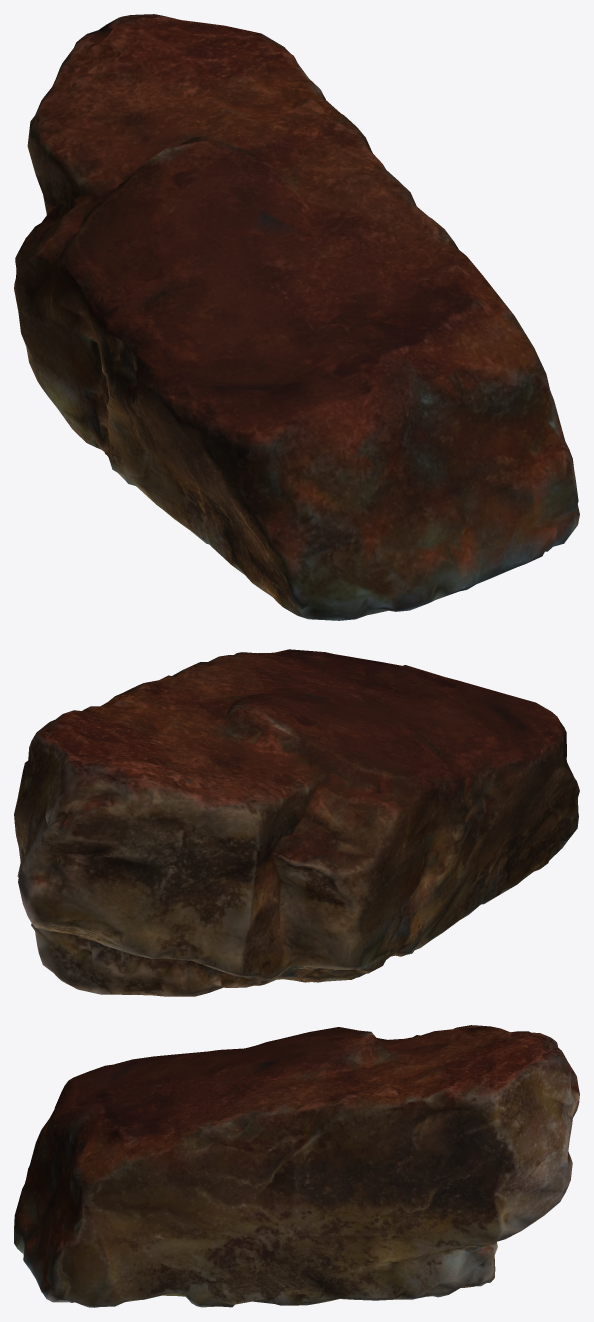
Rendered from rock_07.glb.
3 renders of one model, top to bottom at view 1: azimuth 30°, elevation 25°; view 2: azimuth 150°, elevation 25°; view 3: azimuth 270°, elevation 25°, orthographic. The views are drawn at different scales.
Visible parts, largest first — view 1: rock_07_lod0; view 2: rock_07_lod0; view 3: rock_07_lod0.
Boxes of the visible parts, x1,y1,x2,y2 form: rock_07_lod0: (14, 14, 579, 620); rock_07_lod0: (14, 649, 579, 996); rock_07_lod0: (14, 1025, 579, 1307).
Size of what is drawn, in the model's own units: 0.1686 by 0.1437 by 0.3199.
Materials: 1 (1 with a texture image).
